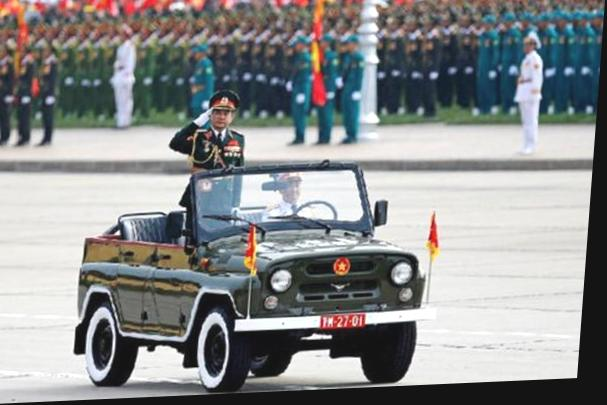License_Plate: (319, 312, 366, 332)
